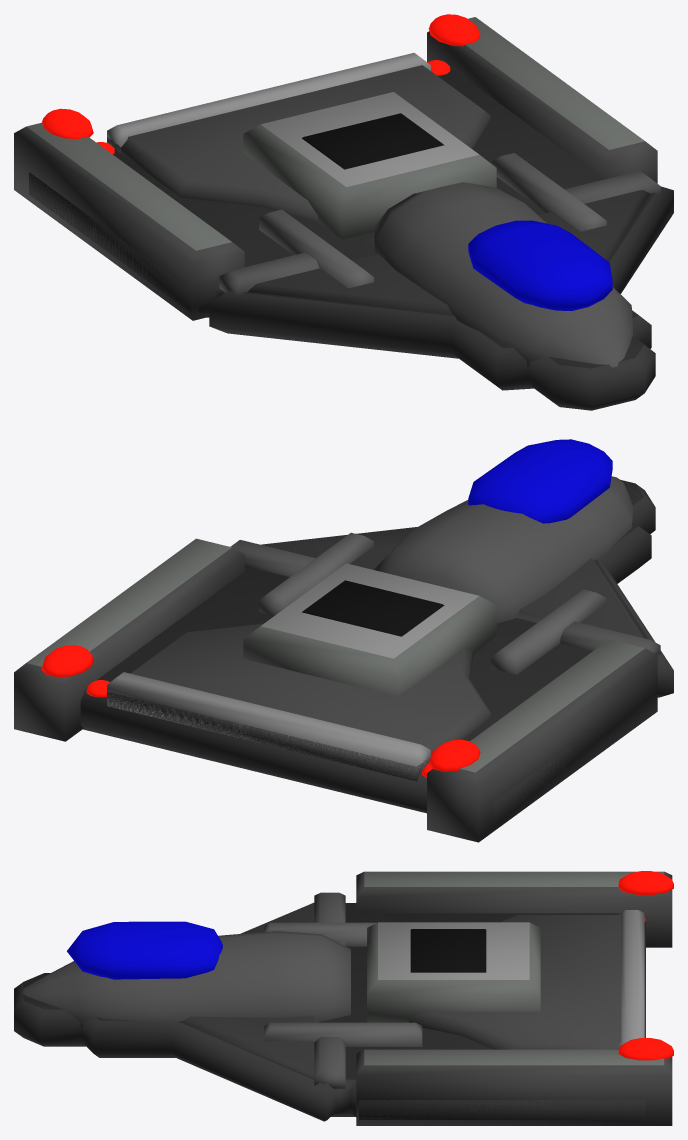
Rendered from newshs-93.glb.
3 renders of one model, top to bottom at view 1: azimuth 30°, elevation 25°; view 2: azimuth 150°, elevation 25°; view 3: azimuth 270°, elevation 25°, orthographic. The views are drawn at different scales.
Parts seen in each view (by area): view 1: newshs-93; view 2: newshs-93; view 3: newshs-93.
Boxes of the visible parts, left/top/right/bottom form: newshs-93: left=14, top=14, right=673, bottom=410; newshs-93: left=14, top=439, right=673, bottom=842; newshs-93: left=14, top=871, right=673, bottom=1125.
Bounding box in the file's own units: 1.5 × 0.3654 × 2.09.
